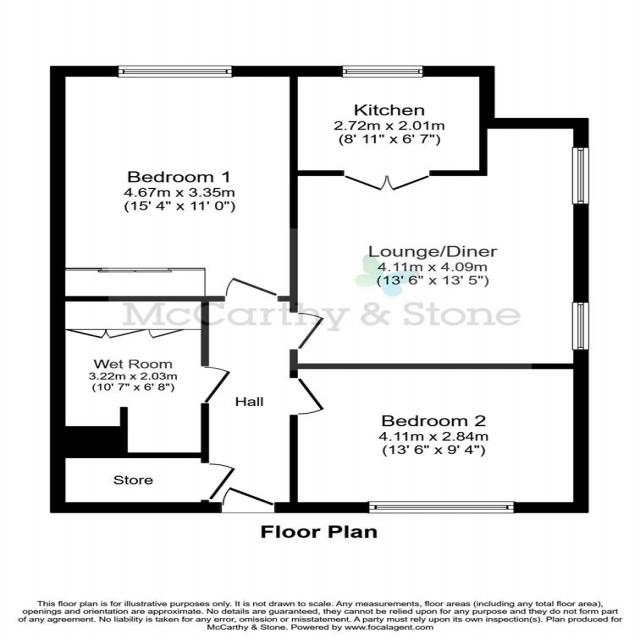DOOR: (219, 484, 277, 514), (198, 461, 240, 502), (288, 310, 328, 352), (222, 275, 284, 302), (288, 376, 327, 416), (199, 364, 234, 406)
DOUBLE DOOR: (343, 169, 434, 193)
ROOM: (288, 117, 589, 370), (48, 65, 299, 302), (288, 363, 590, 514), (288, 65, 496, 192)
WINDOW: (366, 500, 516, 515), (116, 64, 234, 78), (339, 64, 426, 79), (570, 145, 591, 206), (569, 301, 590, 352)
